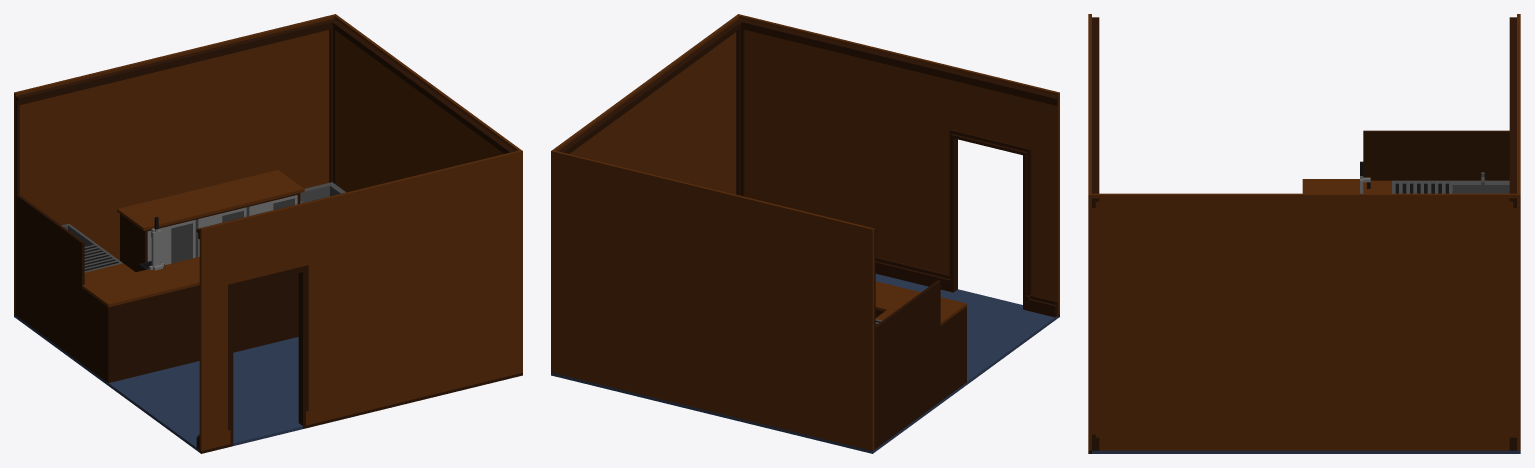
The model's file is Level1-20-14-4.obj.
3 renders of one model, left to right at view 1: azimuth 30°, elevation 25°; view 2: azimuth 150°, elevation 25°; view 3: azimuth 270°, elevation 25°, orthographic. The views are drawn at different scales.
Visible parts, largest first — view 1: Level1-20-14-4; view 2: Level1-20-14-4; view 3: Level1-20-14-4.
Part boxes in pixels (<box>): Level1-20-14-4: <box>14,14,522,453</box>; Level1-20-14-4: <box>551,14,1059,453</box>; Level1-20-14-4: <box>1088,14,1520,453</box>.
Bounding box in the file's own units: 120 × 80 × 121.
Materials: 1 (1 with a texture image).
